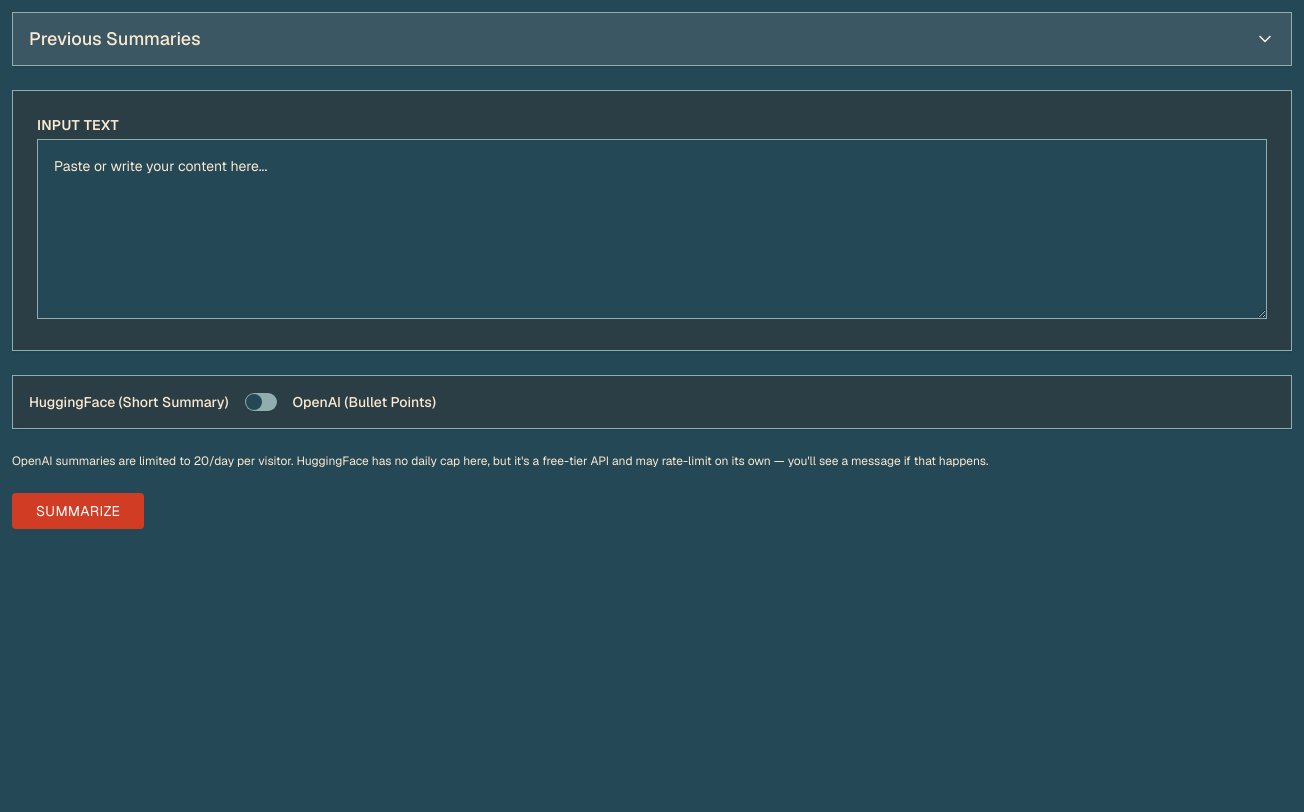
Test: SummaryTabs › shows an error message when the request fails
Step 1. Type "some article text" into the text box with placeholder "Paste or write your content here..." → (652, 229), box [37, 139, 1267, 319]
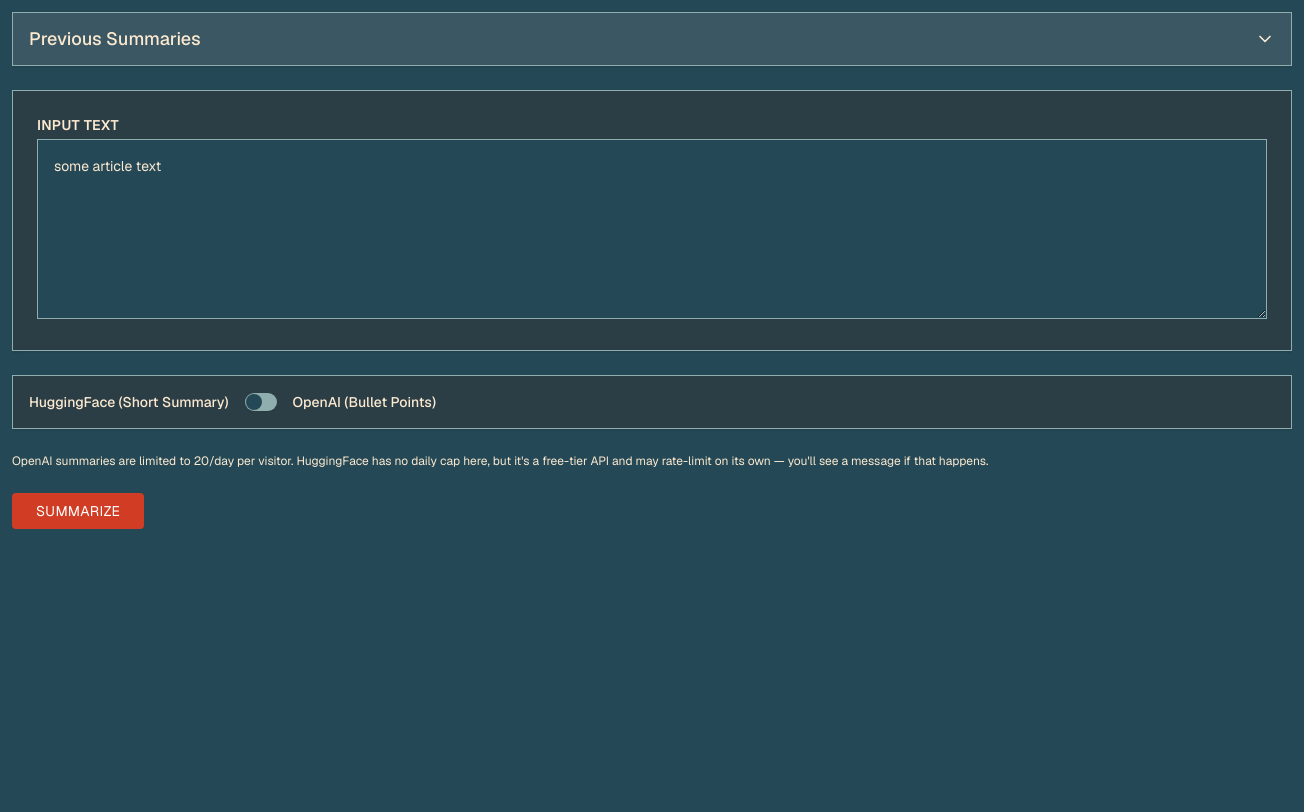
Step 2. Click the button "Summarize" → (78, 511), box [12, 493, 144, 529]
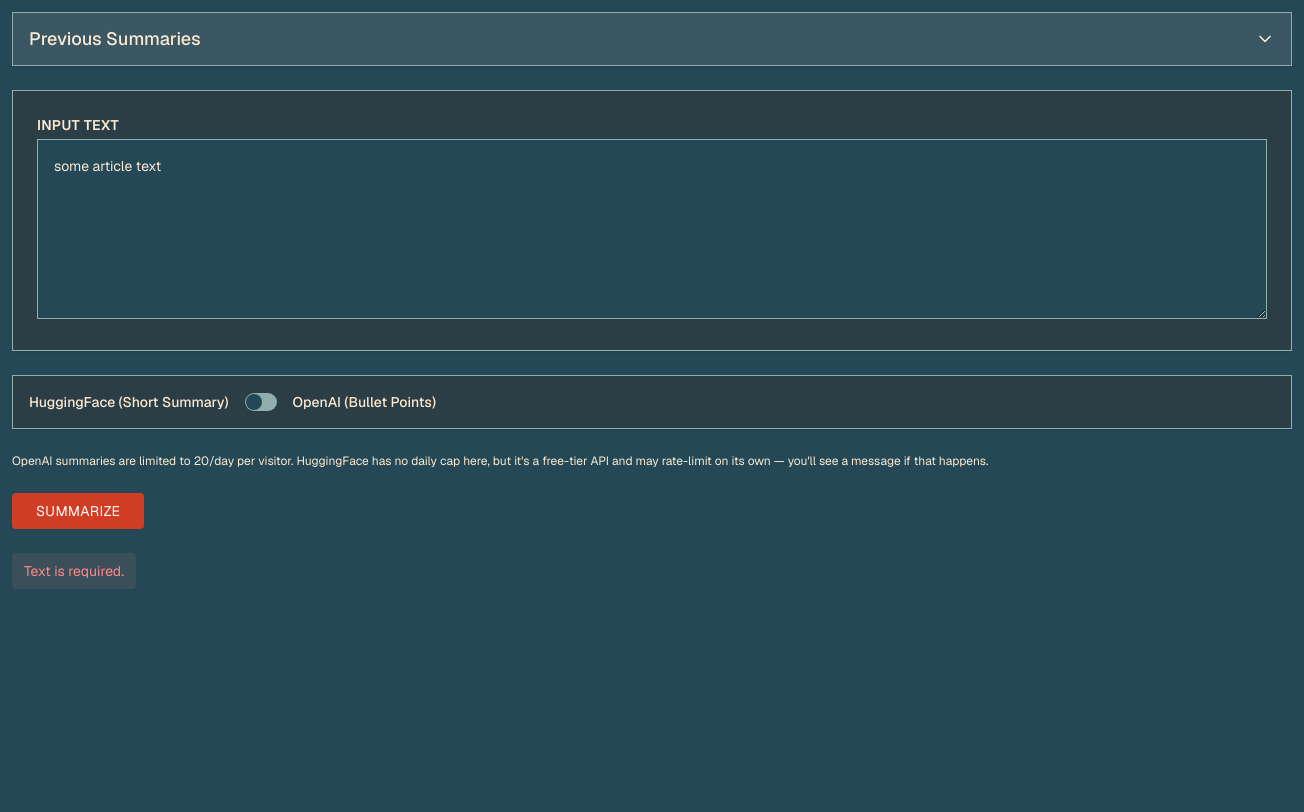
Now the text "Text is required." is shown, box [12, 553, 136, 589]
